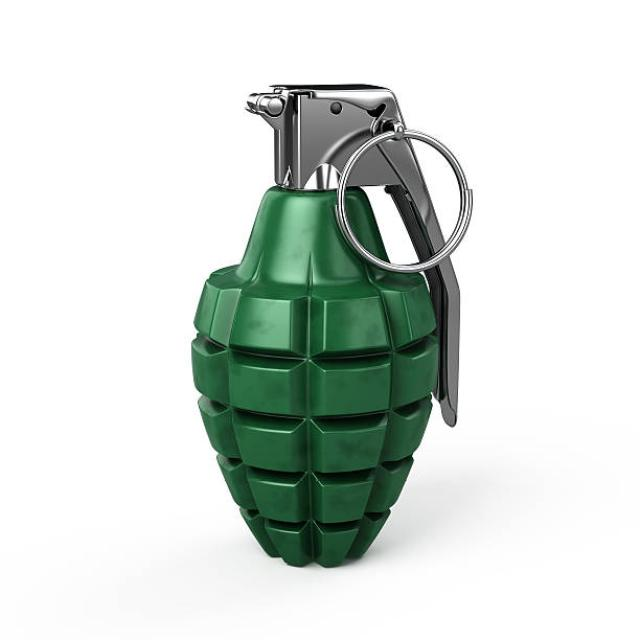grenade: (187, 76, 480, 585)
